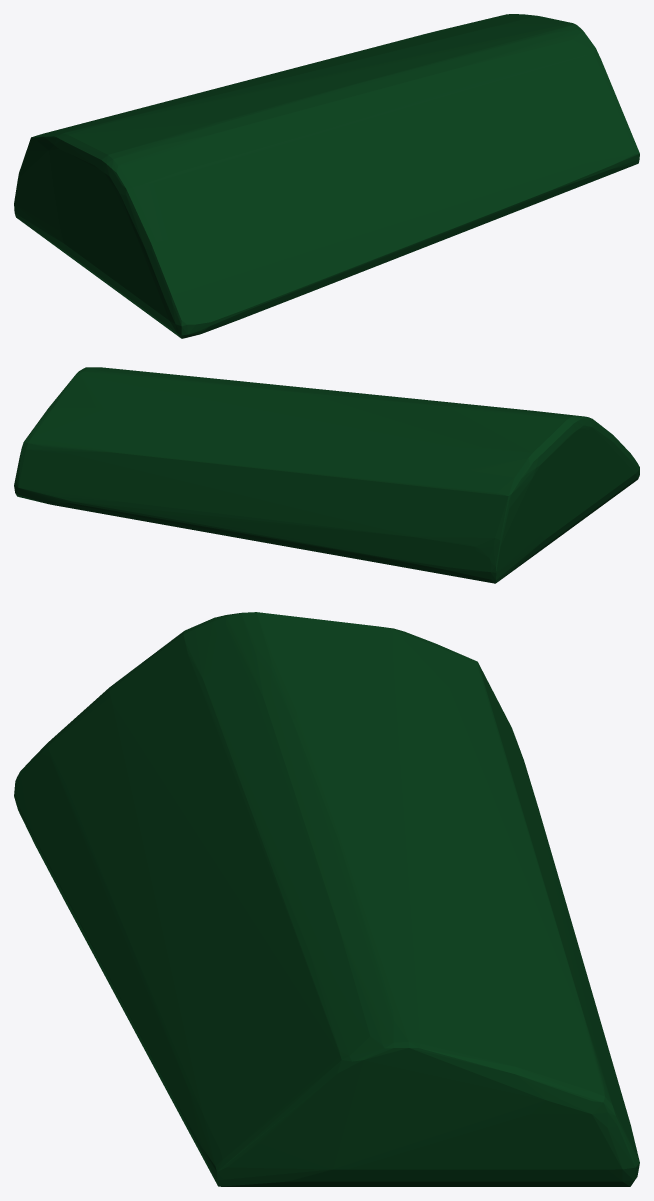
File: right-elbow-0_part_25.obj
3 views of the same model, one above another, from view 1: azimuth 30°, elevation 25°; view 2: azimuth 150°, elevation 25°; view 3: azimuth 270°, elevation 25° (orthographic). The views are drawn at different scales.
Size of the model in its own units: 0.0556 by 0.0126 by 0.0373.
